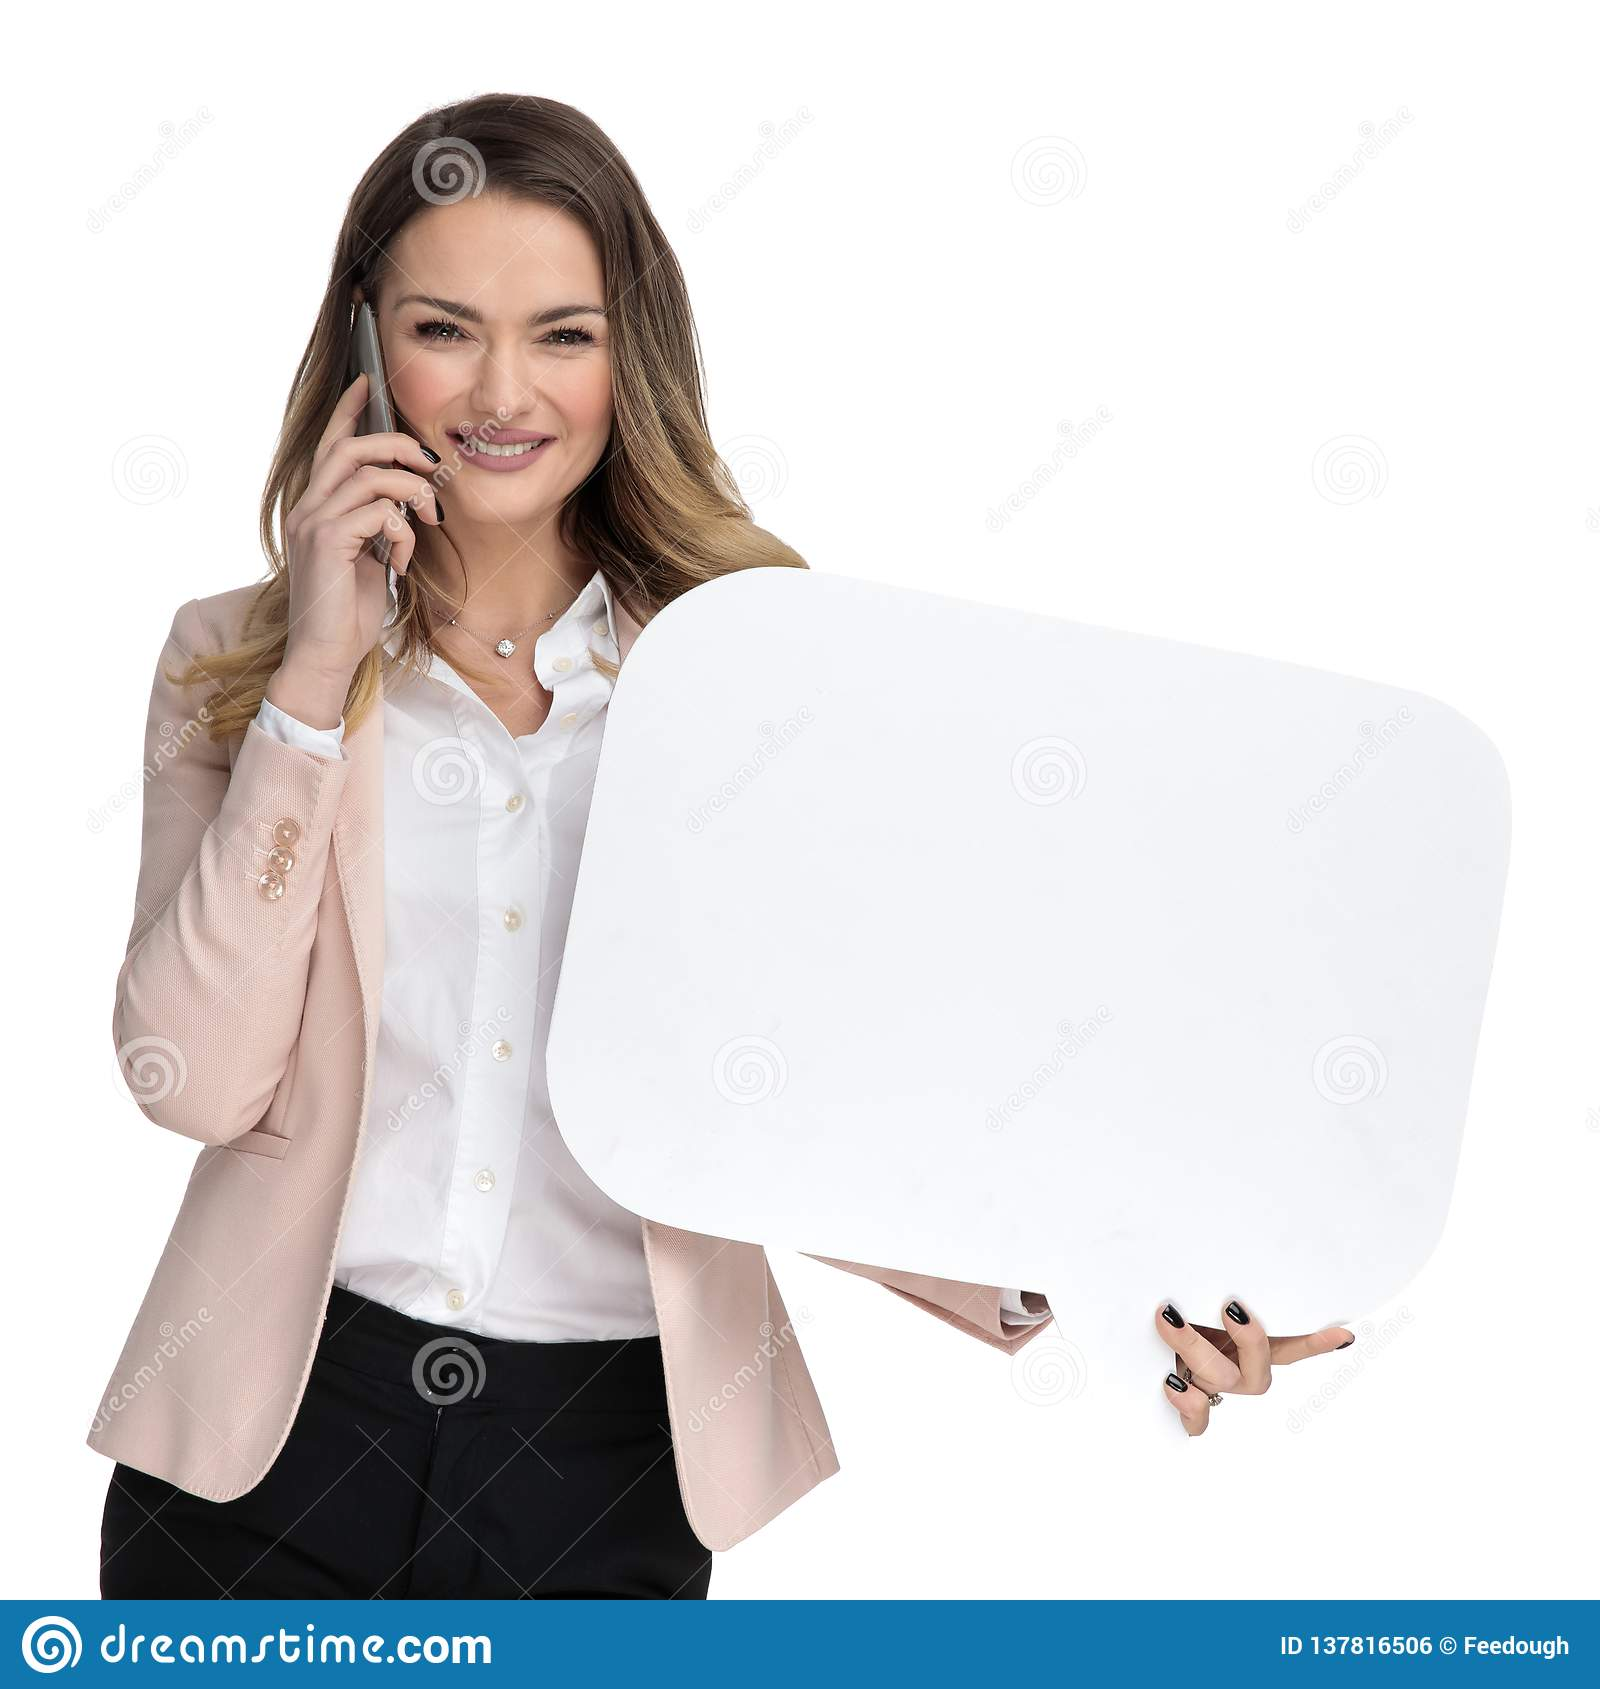phone: (320, 301, 421, 590)
talk: (283, 278, 617, 705)
